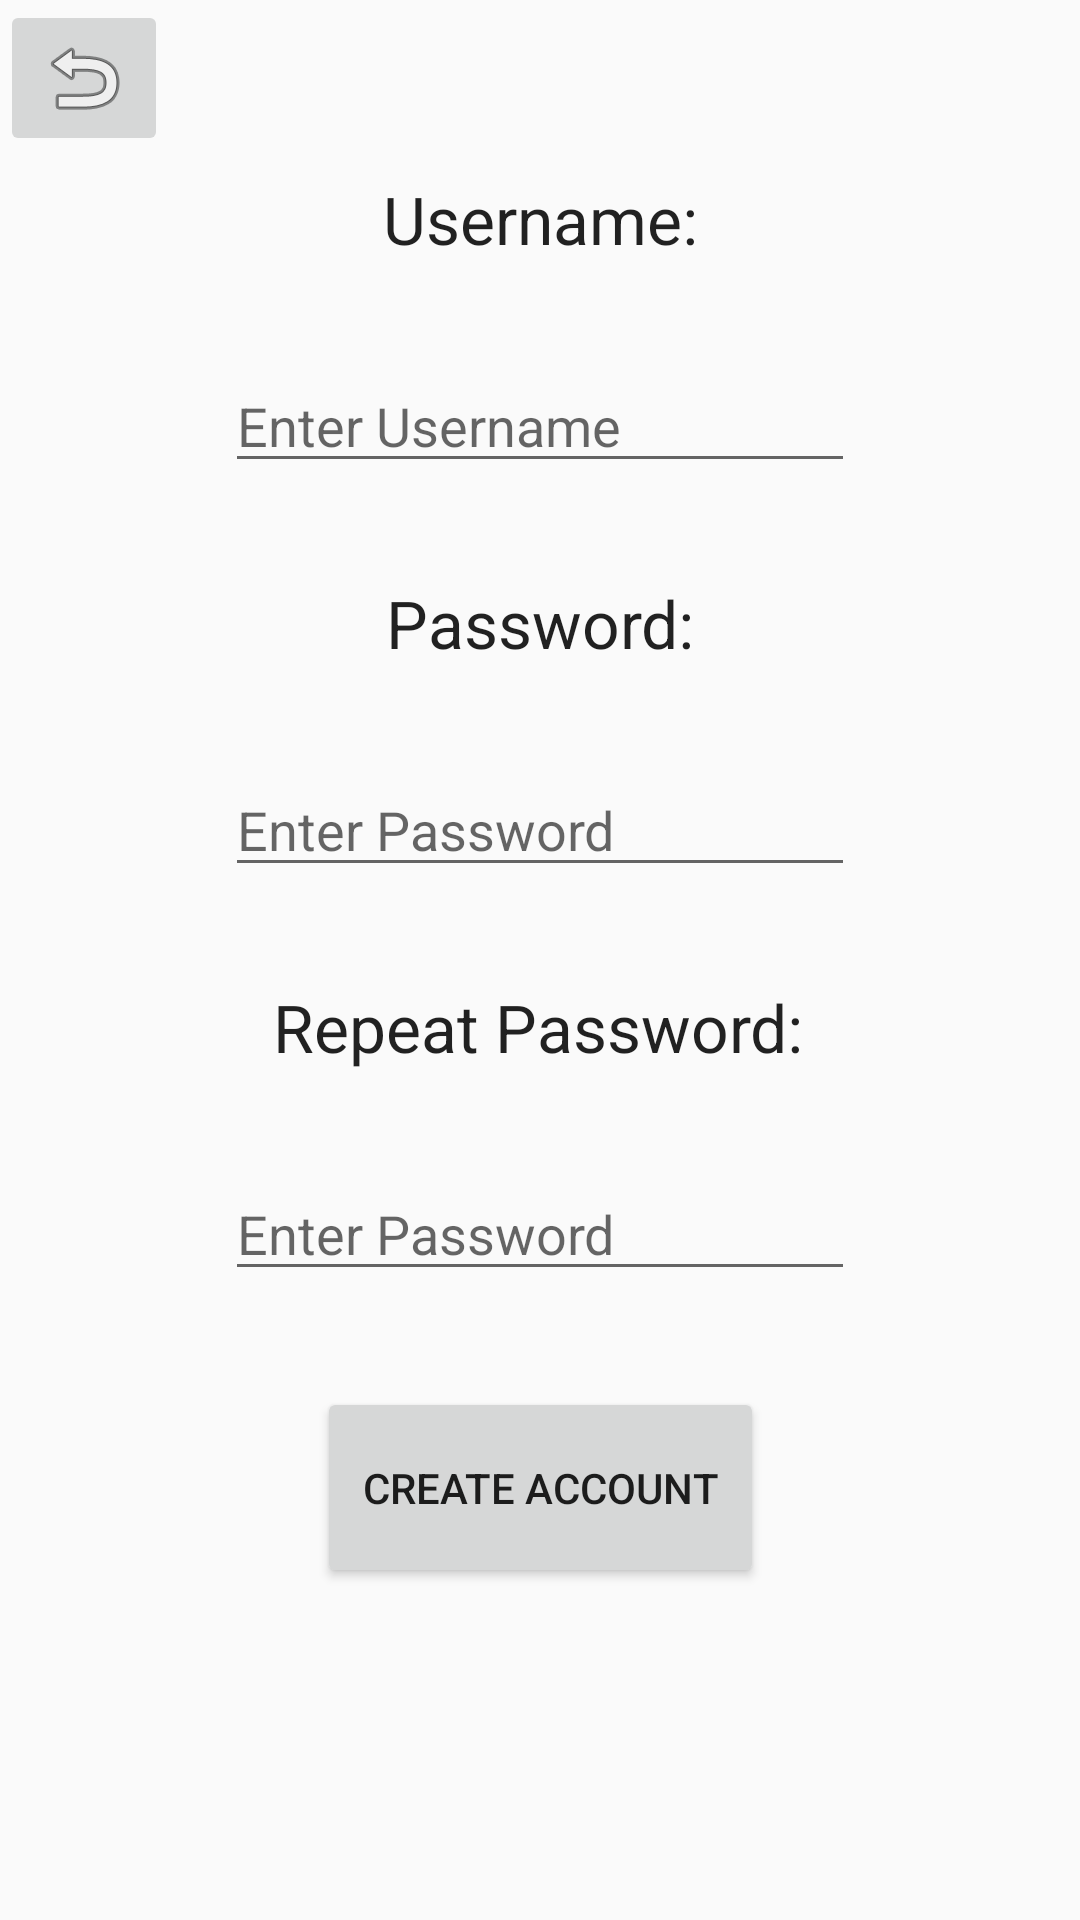

Named icons in this screenshot (1080x1920) and their centers, (x=x, y=y):
revert: (x=84, y=78)
